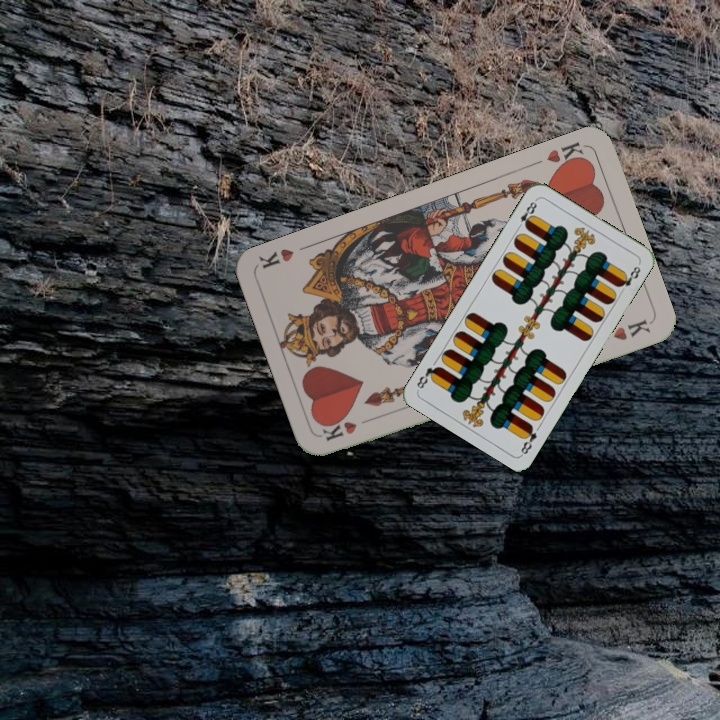E8: (516, 420, 544, 457), (513, 196, 540, 232)
HK: (319, 413, 377, 444), (542, 138, 590, 173)
